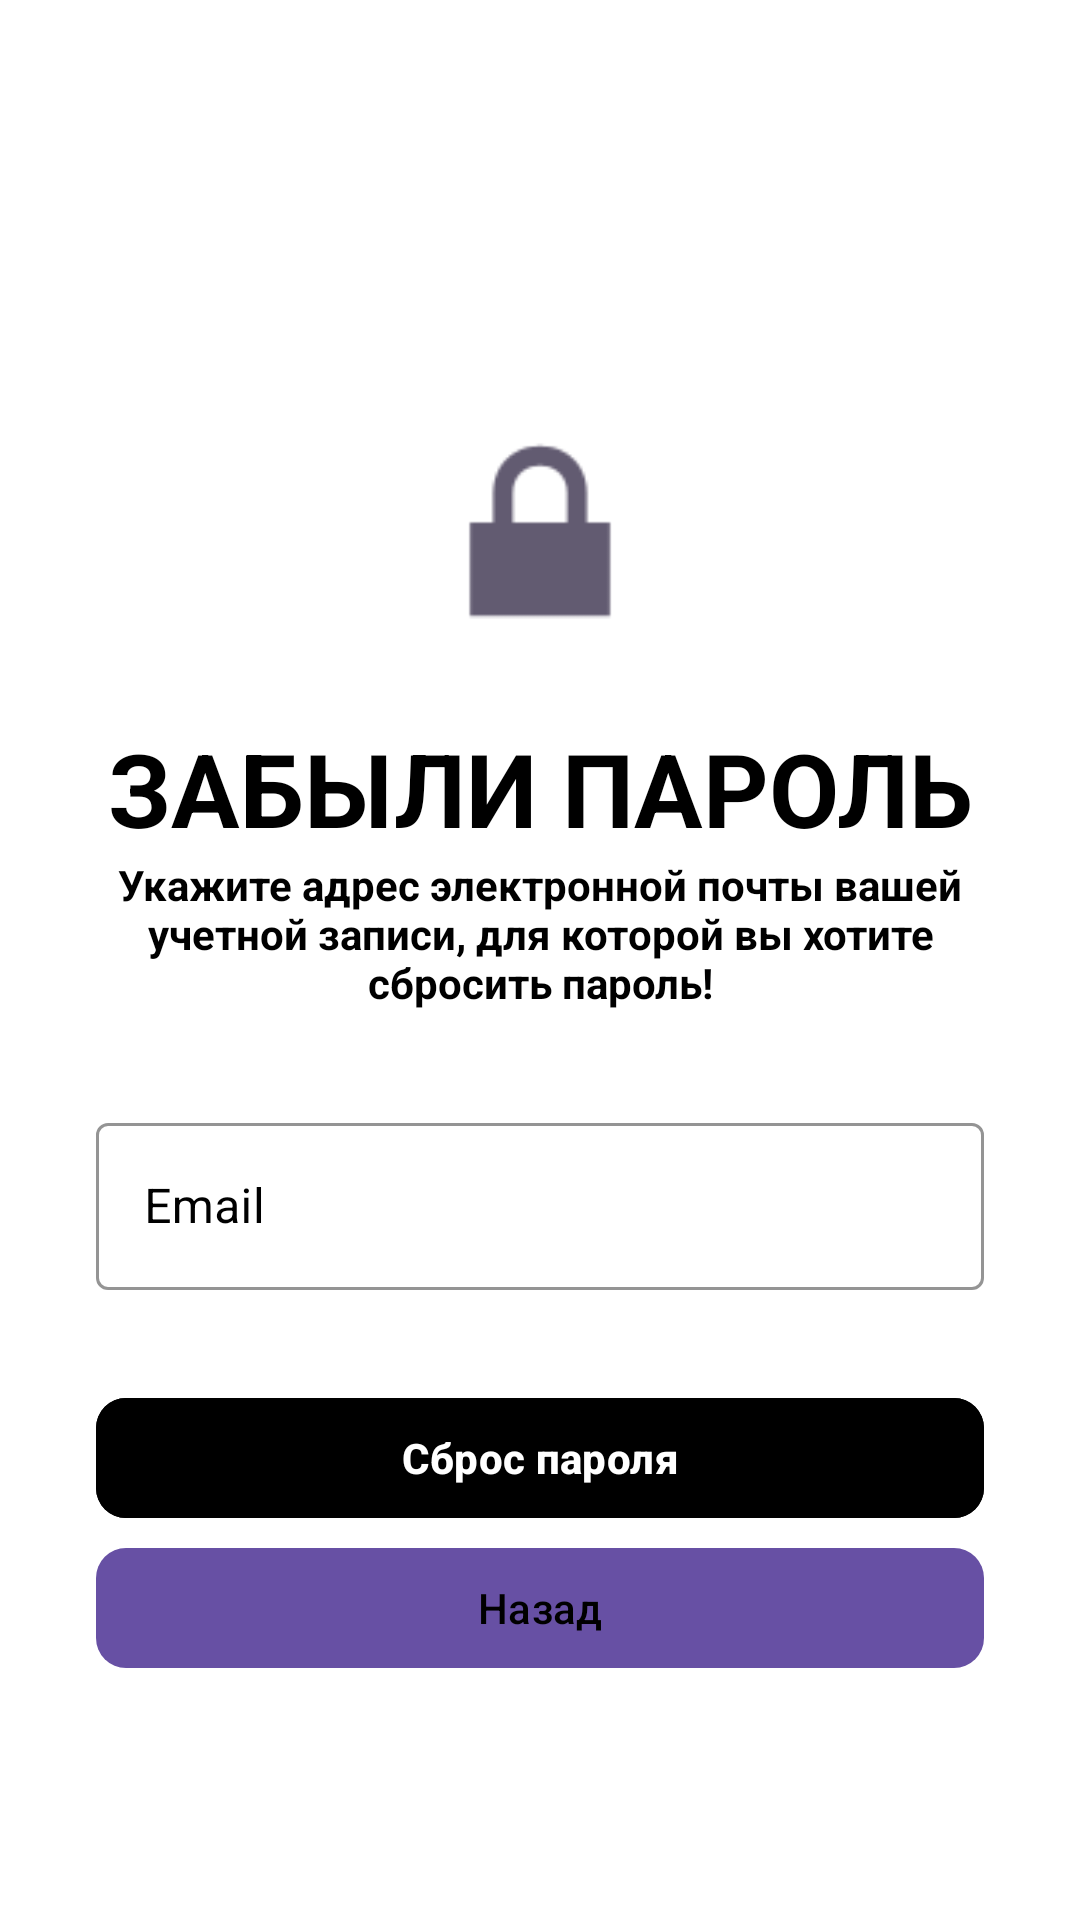

Point at icon controls on the screen. Image size 1080px x 1920px, points as [x,y].
lock: [540,531]
